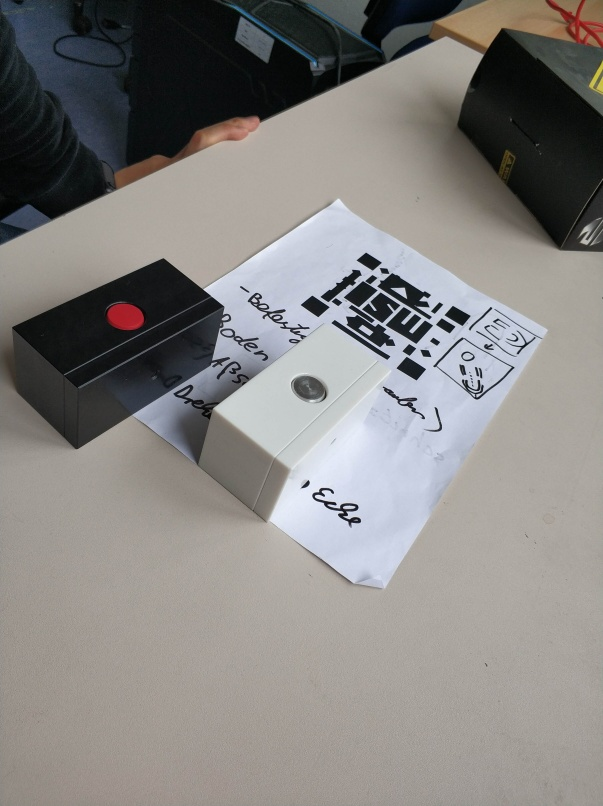black+black+red: (7, 254, 226, 453)
white+white+silver: (199, 320, 395, 527)
